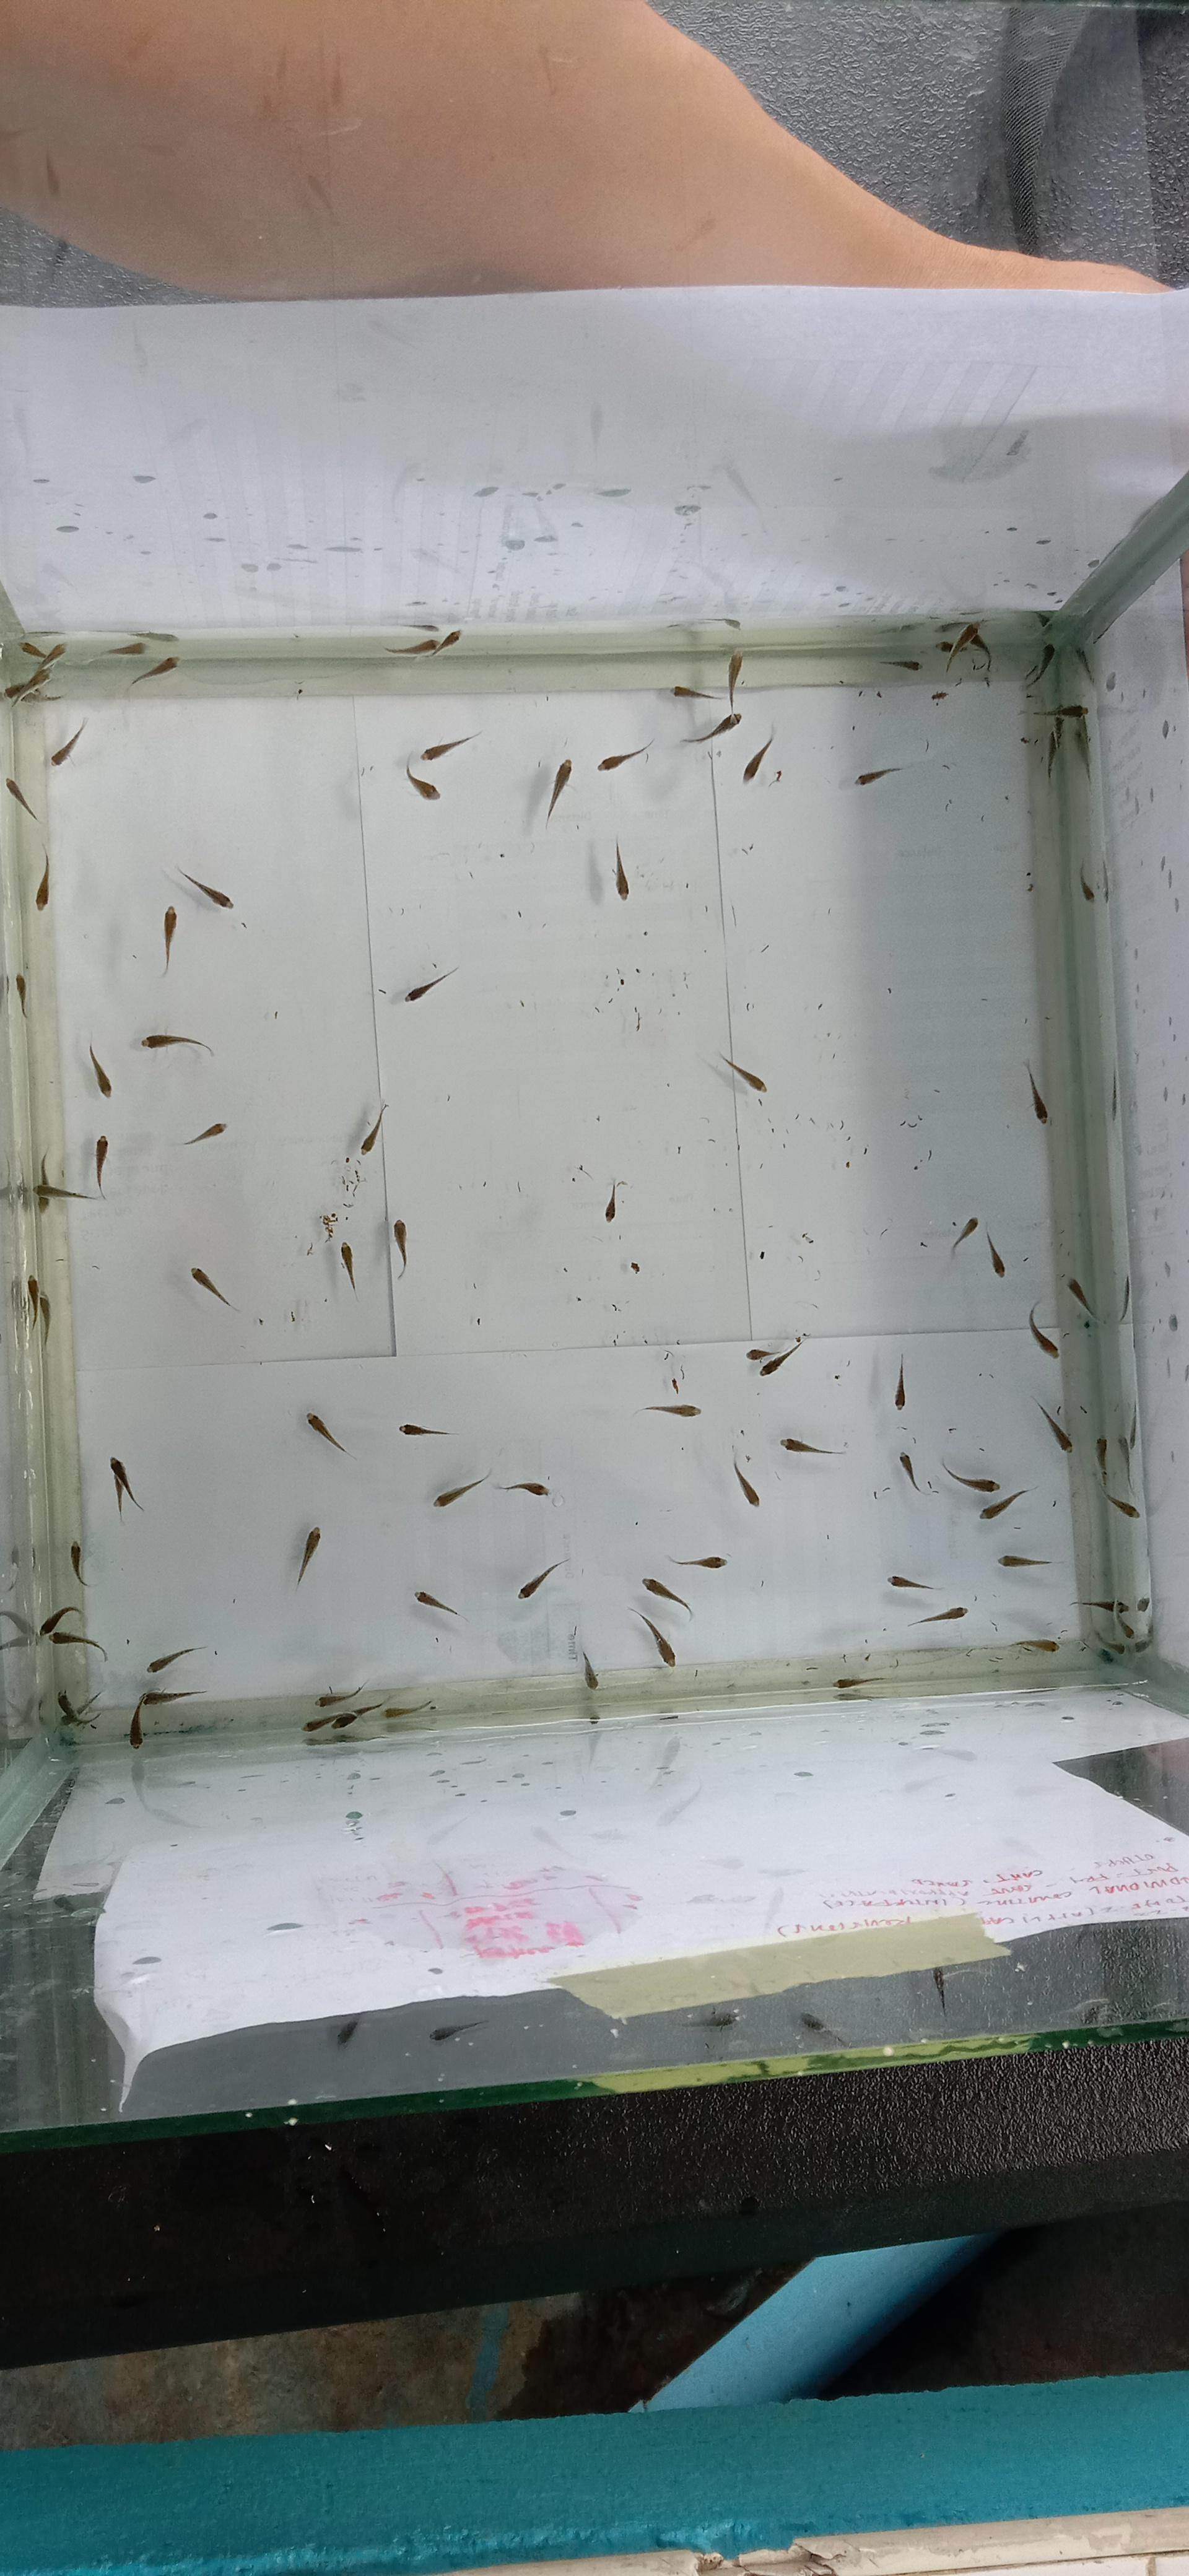fish: (630, 1609, 676, 1668), (176, 866, 233, 910), (383, 627, 462, 658), (517, 1557, 568, 1601), (1032, 1398, 1072, 1453), (747, 1338, 802, 1377), (56, 1688, 103, 1733), (940, 1456, 997, 1493), (641, 1577, 692, 1618), (189, 1266, 236, 1311), (404, 965, 459, 1003), (109, 1456, 141, 1520), (718, 1051, 766, 1092), (683, 710, 742, 744), (434, 1473, 489, 1508), (49, 717, 88, 766), (305, 1411, 348, 1455), (141, 1032, 214, 1057), (421, 731, 481, 762), (129, 655, 180, 690), (1027, 1302, 1060, 1358), (146, 1646, 204, 1676), (597, 739, 652, 771), (897, 1451, 936, 1495), (741, 732, 774, 783), (546, 759, 572, 822), (49, 1630, 105, 1660), (978, 1489, 1029, 1521), (1022, 642, 1056, 689), (1061, 1274, 1095, 1321), (789, 2539, 837, 2573), (296, 1525, 322, 1586), (404, 760, 440, 801), (1025, 1063, 1049, 1124), (731, 1456, 760, 1507), (315, 1681, 367, 1708), (39, 1606, 84, 1637), (414, 1590, 461, 1619), (5, 777, 38, 819), (359, 1103, 386, 1154), (780, 1436, 845, 1456), (27, 1277, 50, 1333), (89, 1044, 112, 1097), (34, 1183, 96, 1203), (20, 638, 66, 664), (142, 1689, 204, 1708), (910, 1604, 967, 1625), (965, 624, 991, 670), (160, 905, 177, 976), (382, 1699, 435, 1721), (949, 1216, 978, 1256), (183, 1120, 227, 1145), (725, 653, 743, 707), (613, 841, 630, 899), (391, 1218, 408, 1277), (69, 1540, 90, 1587), (1102, 1493, 1139, 1520), (1039, 701, 1092, 719), (855, 765, 901, 786), (1091, 1638, 1128, 1664), (642, 1403, 700, 1419), (832, 1675, 886, 1692), (497, 1481, 548, 1499), (887, 1573, 934, 1592), (35, 851, 50, 910), (339, 1241, 357, 1290), (94, 1135, 109, 1191), (398, 1422, 449, 1438), (669, 1554, 726, 1569), (985, 1234, 1005, 1277), (578, 1651, 600, 1690), (998, 1554, 1053, 1569), (1068, 1598, 1118, 1614), (892, 1355, 907, 1410), (19, 683, 62, 702), (128, 1704, 146, 1747), (1012, 1639, 1059, 1656), (671, 684, 718, 700), (302, 1713, 338, 1733), (3, 677, 35, 700), (437, 628, 462, 656), (35, 1152, 53, 1193), (693, 2551, 724, 2574), (602, 1181, 619, 1221), (109, 638, 146, 656), (1083, 862, 1094, 921), (329, 1709, 357, 1732), (14, 973, 28, 1016), (1095, 1435, 1109, 1473), (745, 1346, 778, 1360), (833, 1677, 860, 1690)
